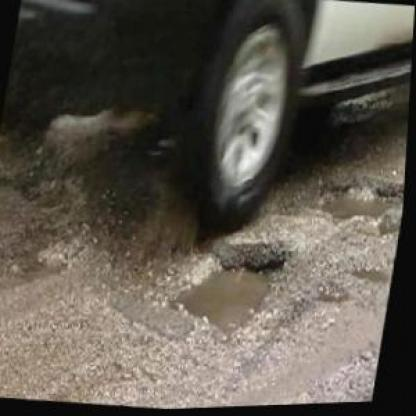pothole: (159, 233, 290, 347), (312, 171, 406, 248), (318, 276, 353, 308), (350, 264, 396, 288), (340, 396, 376, 404)
